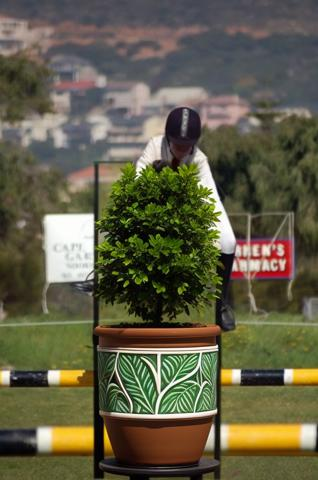person: (69, 108, 238, 331)
person/foot: (212, 304, 236, 332), (71, 273, 103, 294)
person/head: (166, 107, 202, 159)
pottedplant: (93, 161, 221, 477)
